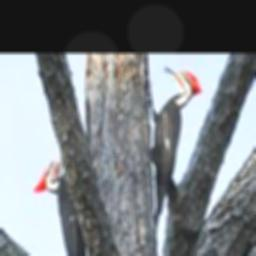Woodpecker: (146, 67, 201, 227), (33, 145, 89, 256)
